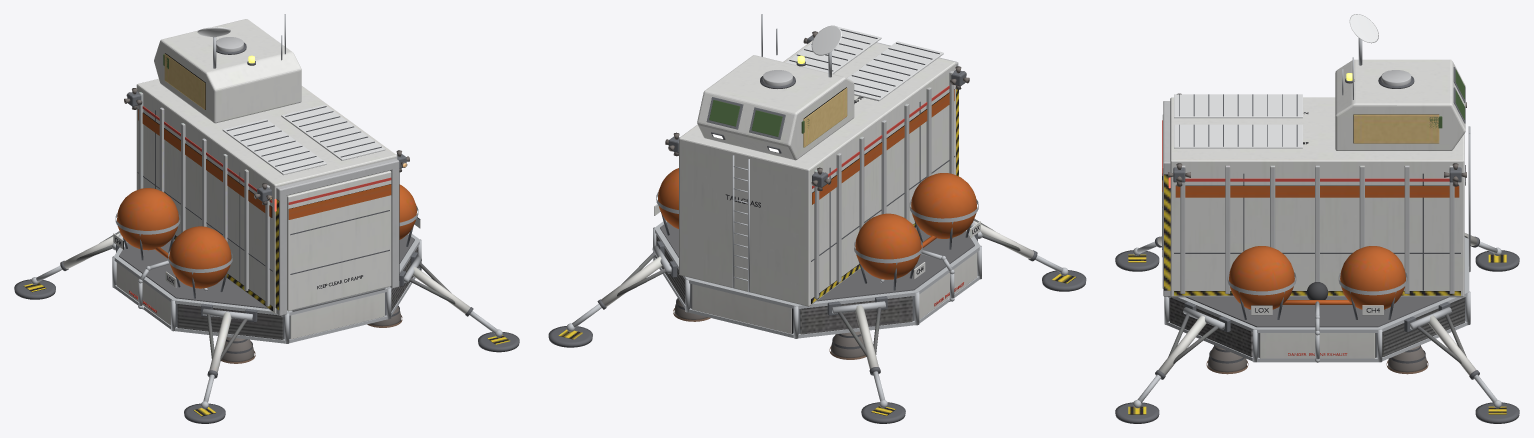
Rendered from dropship_prewarp_a.glb.
The picture shows the model from 3 angles, left to right: view 1: azimuth 30°, elevation 25°; view 2: azimuth 150°, elevation 25°; view 3: azimuth 270°, elevation 25°; orthographic projection. The views are drawn at different scales.
Visible parts, largest first — view 1: Body, RampBody, Leg2Body, Leg3Body, Leg0Body, Foot2Body, Foot3Body, Foot0Body; view 2: Body, Leg0Body, Leg1Body, Leg2Body, Foot1Body, Foot0Body, Foot2Body; view 3: Body, Leg1Body, Leg3Body, Foot1Body, Foot3Body, Foot0Body, Foot2Body.
Part boxes in pixels (box(x1,y1,x2,y2)): Body: box(112, 14, 421, 363); RampBody: box(287, 170, 391, 311); Leg2Body: box(202, 308, 252, 402); Leg3Body: box(404, 256, 497, 333); Leg0Body: box(36, 231, 123, 281); Foot2Body: box(184, 401, 225, 423); Foot3Body: box(478, 329, 519, 352); Foot0Body: box(14, 277, 55, 299); Body: box(653, 14, 981, 359); Leg0Body: box(832, 301, 885, 400); Leg1Body: box(572, 245, 671, 327); Leg2Body: box(970, 218, 1062, 272); Foot1Body: box(548, 323, 592, 347); Foot0Body: box(861, 399, 905, 423); Foot2Body: box(1042, 267, 1086, 291); Body: box(1163, 14, 1470, 374); Leg1Body: box(1410, 307, 1497, 402); Leg3Body: box(1137, 307, 1224, 402); Foot1Body: box(1475, 400, 1519, 423); Foot3Body: box(1115, 400, 1159, 423); Foot0Body: box(1475, 247, 1519, 271); Foot2Body: box(1115, 247, 1159, 271).
Bounding box in the file's own units: 11.27 × 9.46 × 11.27.
33 materials, 8 textured.
